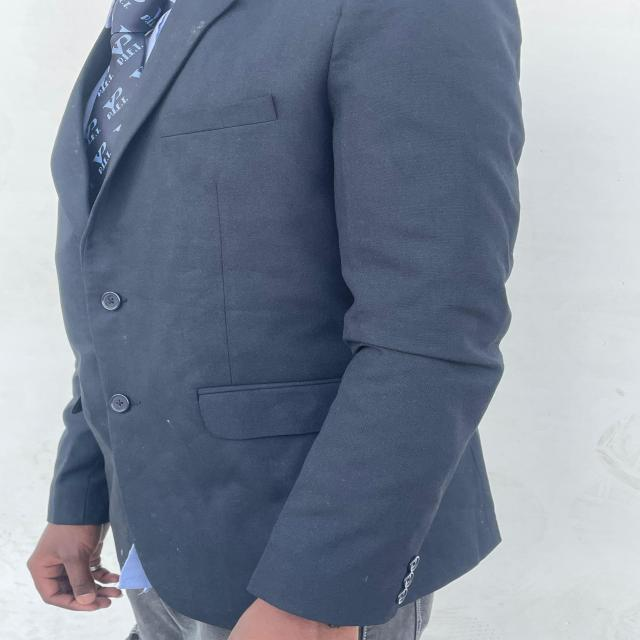Tie: (82, 0, 174, 211)
uniform: (44, 1, 525, 638)
